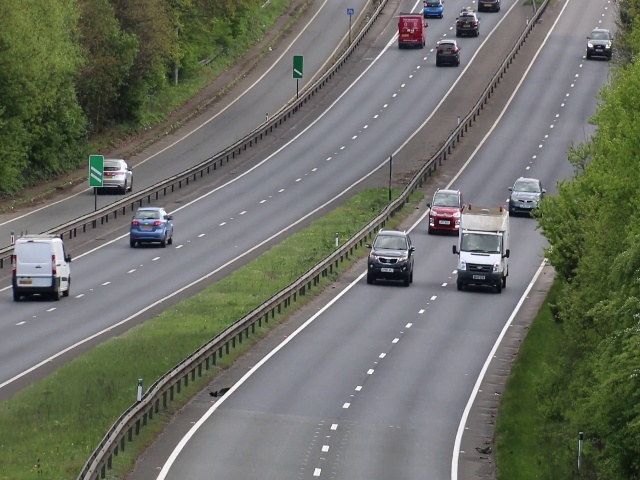car: (458, 208, 506, 294), (12, 235, 72, 301), (366, 231, 413, 285), (129, 205, 174, 249), (428, 190, 462, 234), (509, 174, 541, 216), (99, 157, 135, 191), (397, 13, 427, 49), (586, 27, 613, 61), (435, 38, 461, 66), (456, 12, 480, 38), (423, 1, 444, 19)
